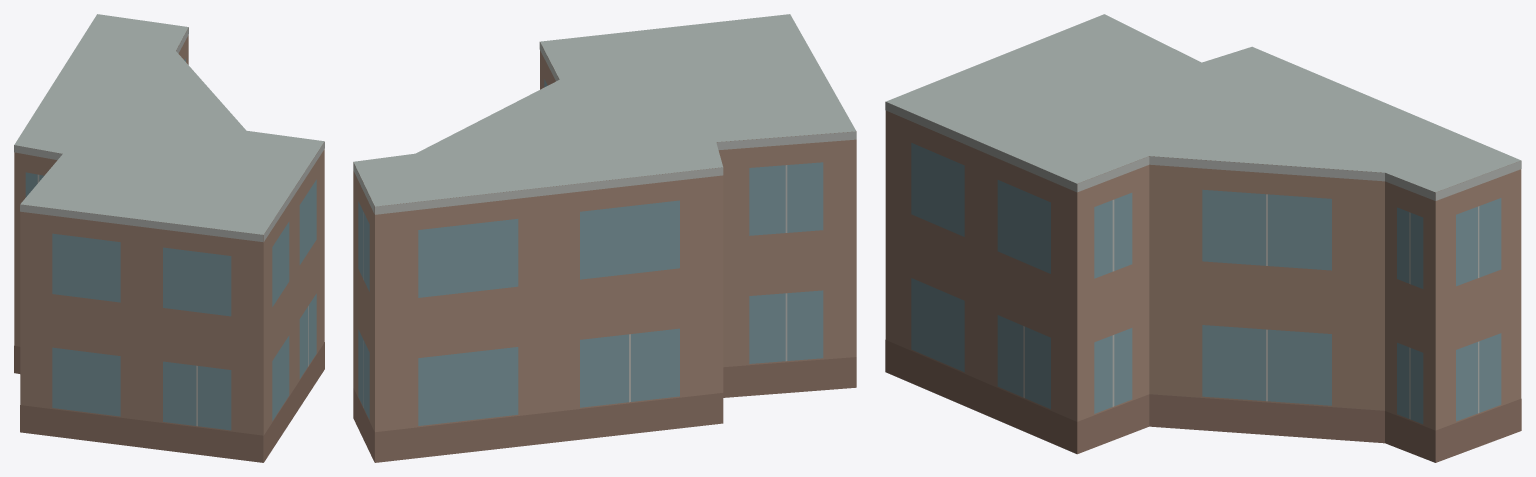
Rendered from survey-upis-32656256.glb.
3 renders of one model, left to right at view 1: azimuth 30°, elevation 25°; view 2: azimuth 150°, elevation 25°; view 3: azimuth 270°, elevation 25°, orthographic. The views are drawn at different scales.
Parts seen in each view (by area): view 1: survey-upis-32656256.tmp; view 2: survey-upis-32656256.tmp; view 3: survey-upis-32656256.tmp.
Part boxes in pixels (x1,y1,x2,y2): survey-upis-32656256.tmp: (14, 14, 324, 462); survey-upis-32656256.tmp: (353, 14, 856, 462); survey-upis-32656256.tmp: (885, 14, 1521, 462).
Bounding box in the file's own units: 10.76 × 7.6 × 16.2.
